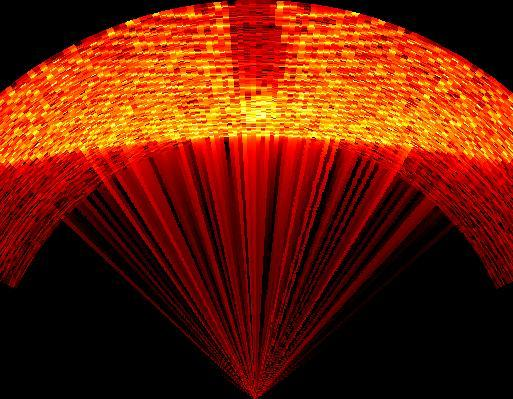box_crate: (227, 0, 296, 122)
